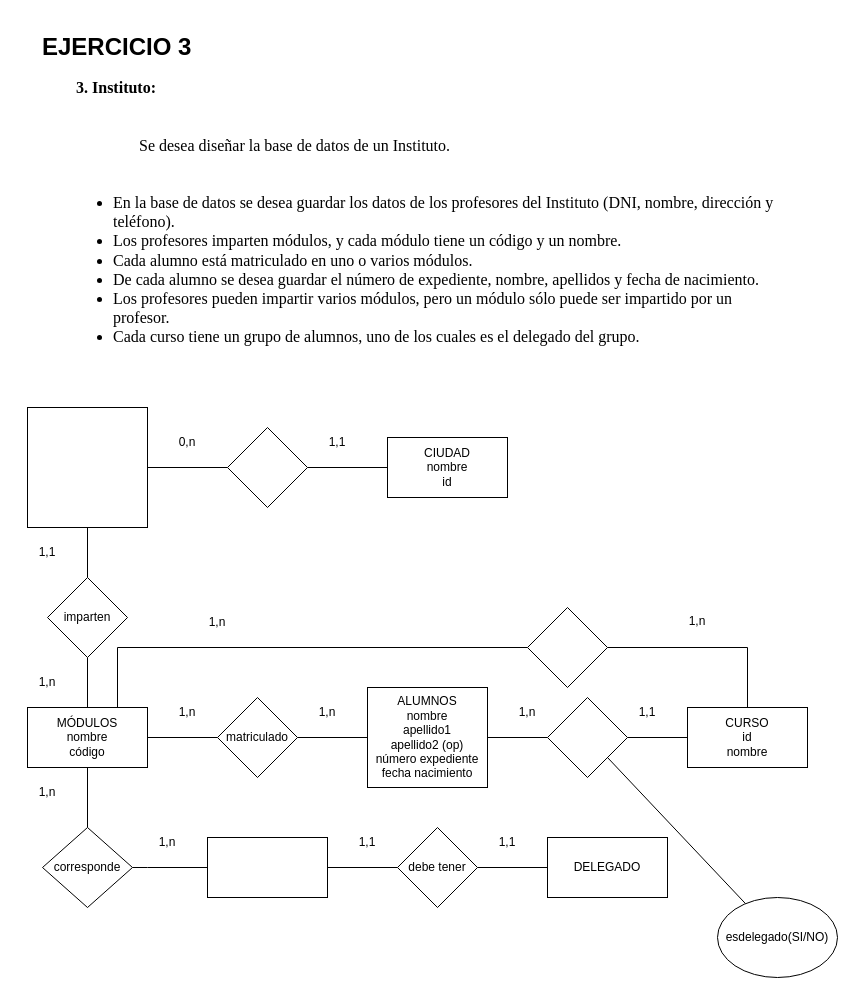
Image size: 855x995. Some labels were removed from this diagram. Here are the shapes that lost their labels. From the top down, the centre of each, then its label:
At point 87,467: "PROFESORES nombre apellido1 apellido2 (op) dni dirección teléfono".
At point 267,467: "vive".
At point 567,647: "compuesto".
At point 587,737: "pertenece".
At point 267,867: "CURSO".
